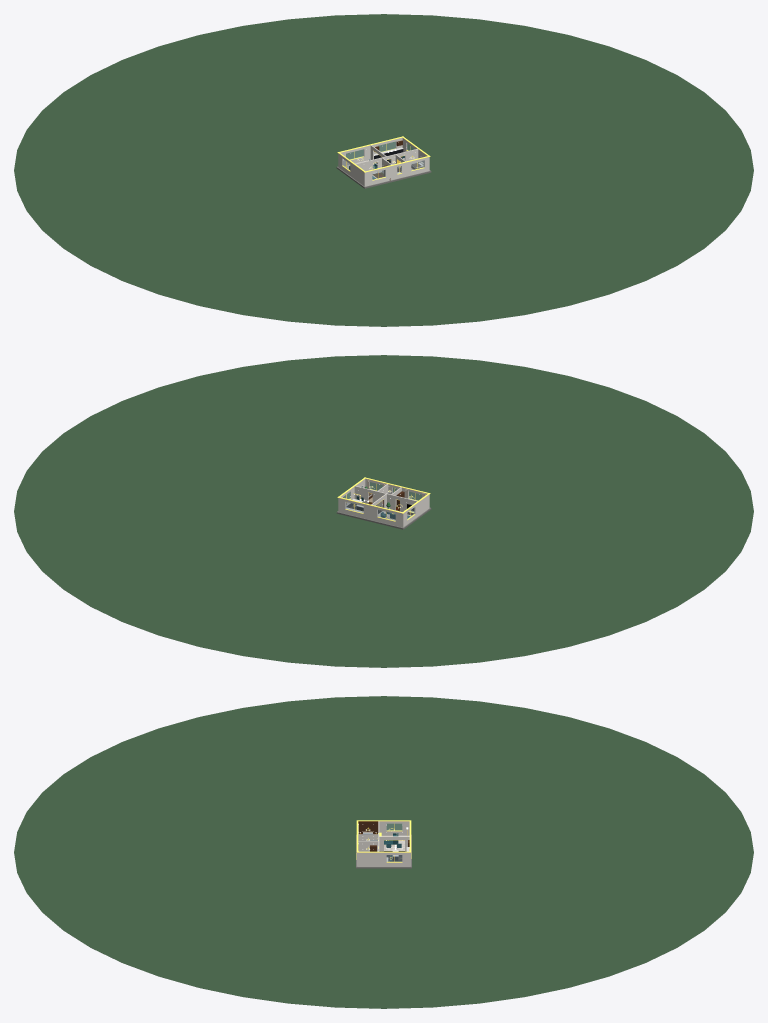
The model's file is luxury_apartment.glb.
3 views of the same model, one above another, from view 1: azimuth 30°, elevation 25°; view 2: azimuth 150°, elevation 25°; view 3: azimuth 270°, elevation 25° (orthographic).
Visible parts, largest first — view 1: Luxury_Apartment; view 2: Luxury_Apartment; view 3: Luxury_Apartment.
Part boxes in pixels (<box>): Luxury_Apartment: <box>14,14,753,326</box>; Luxury_Apartment: <box>14,355,753,667</box>; Luxury_Apartment: <box>14,696,753,1008</box>.
Size of the model in its own units: 140 by 3.39 by 140.
26 materials, 3 textured.
